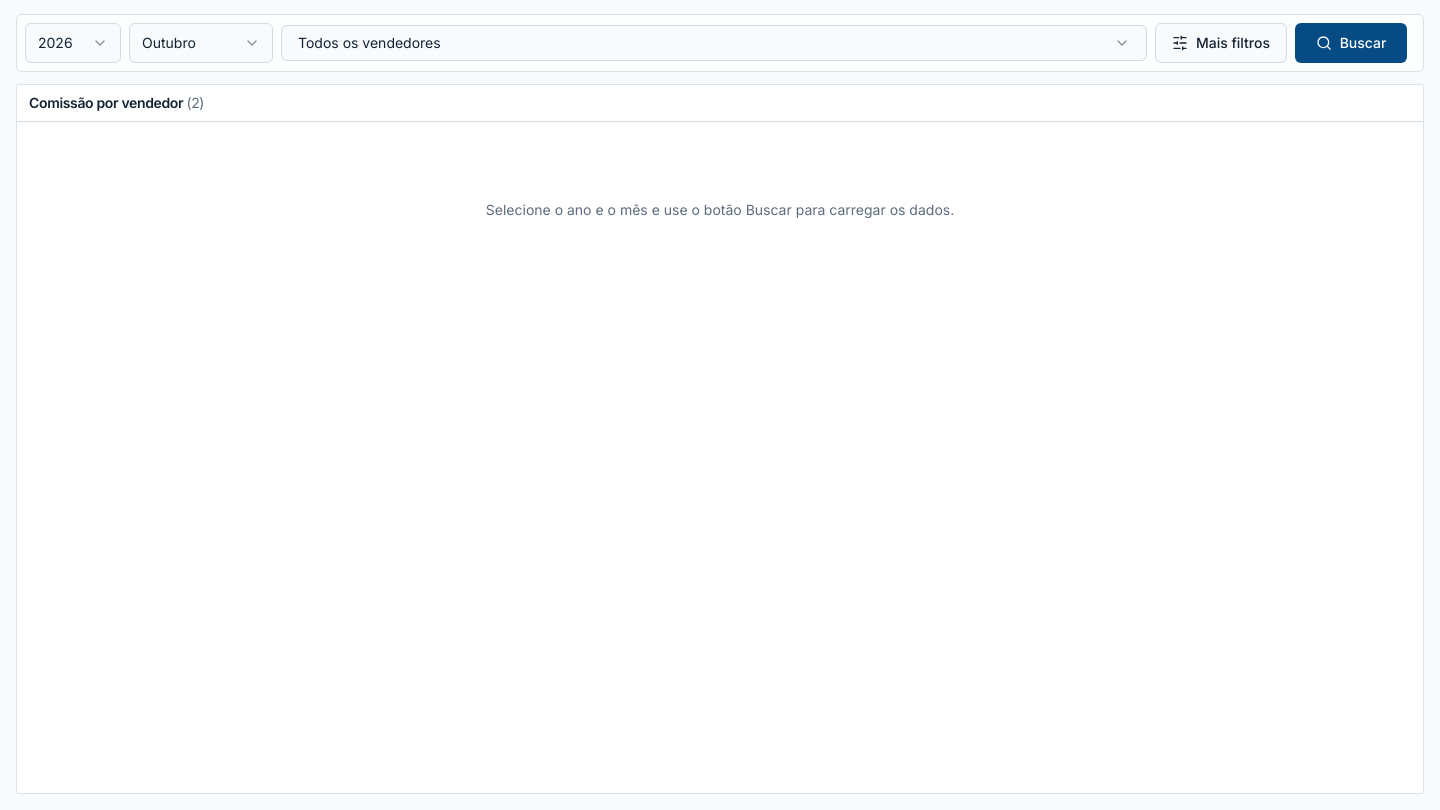
Scenario: ComissaoPage › exibe somente o valor explicito de pedidos em aberto
Click the button "Buscar" at (1351, 43), box 1295,23 -> 1407,63
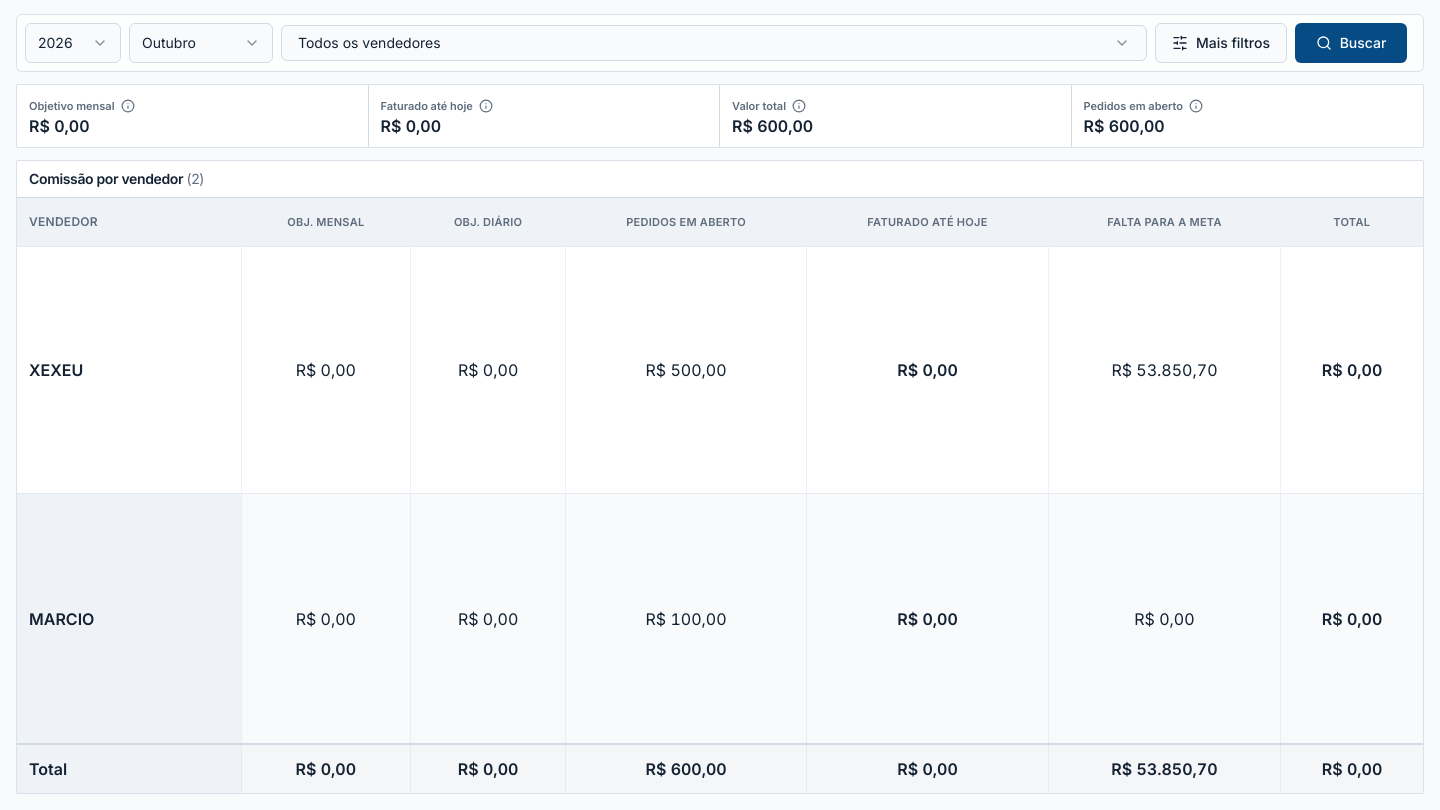
Expected: the cell "R$ 500,00" is shown, 566,246 -> 807,494
Expected: the cell "R$ 600,00" is shown, 566,744 -> 807,793
